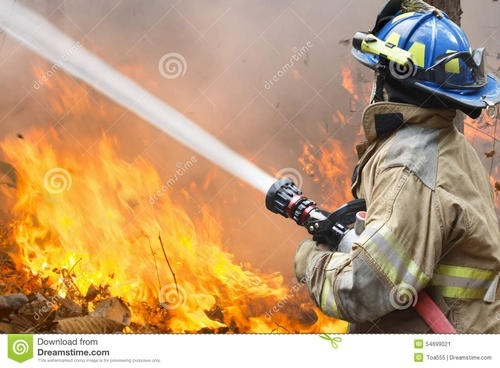fire: (299, 61, 371, 206)
